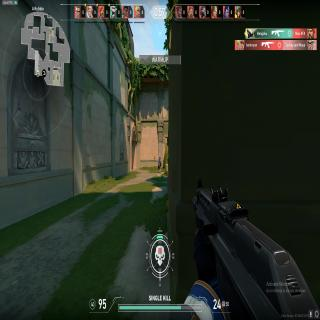ENEMY-BODY: (158, 152, 162, 172)
ENEMY-HEAD: (159, 153, 160, 157)
